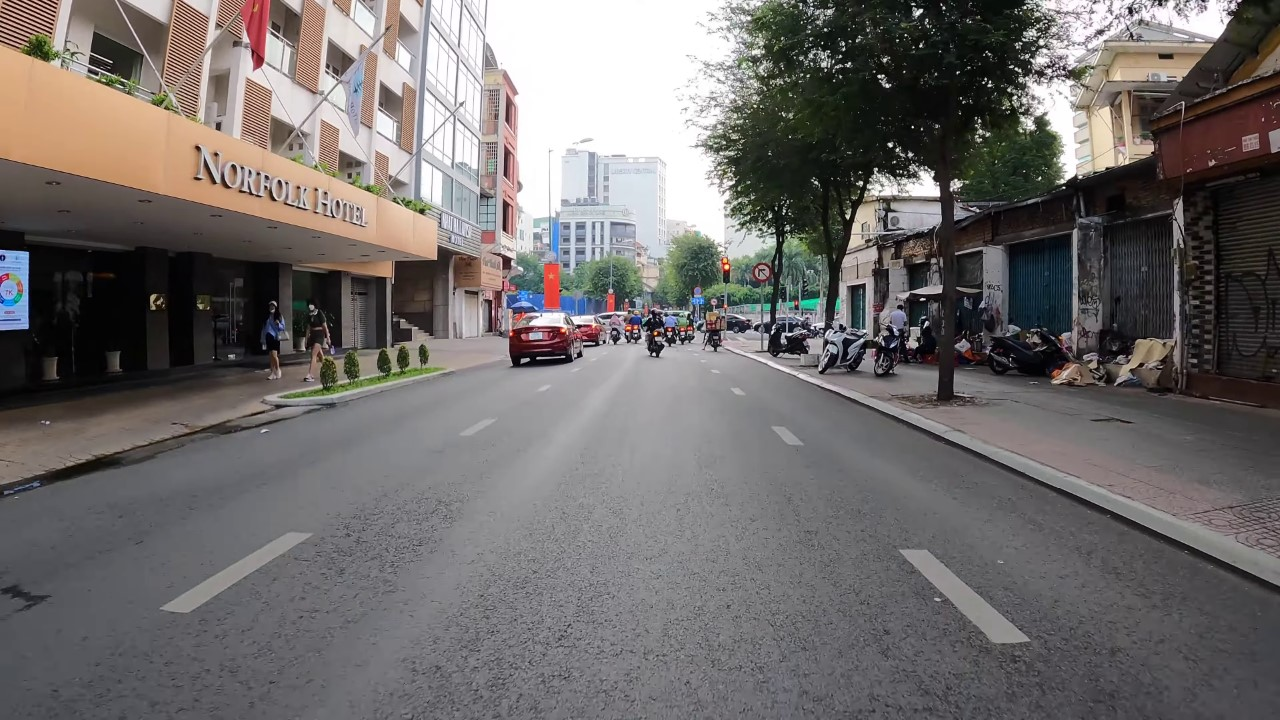cam_re_phai: (751, 261, 772, 282)
